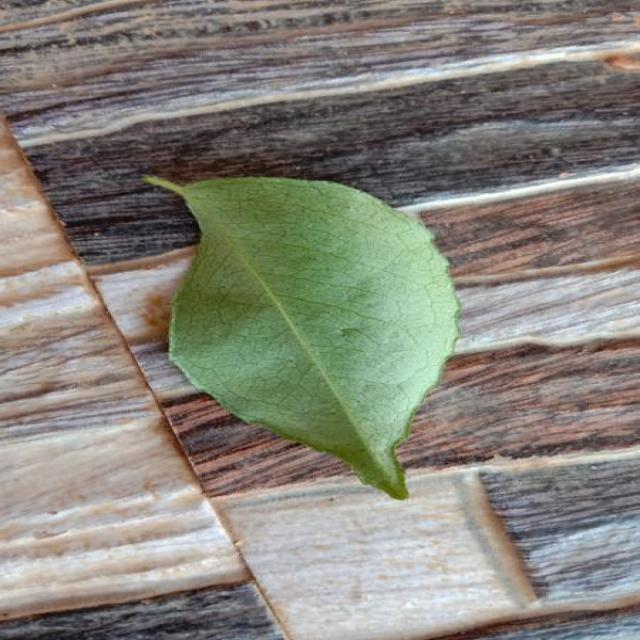curry: (148, 176, 458, 499)
